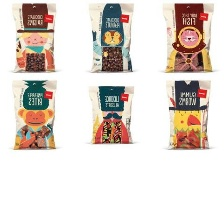snack: (157, 0, 221, 75), (6, 75, 66, 154), (81, 0, 142, 76), (6, 0, 66, 75), (160, 76, 217, 153), (82, 82, 142, 148)
